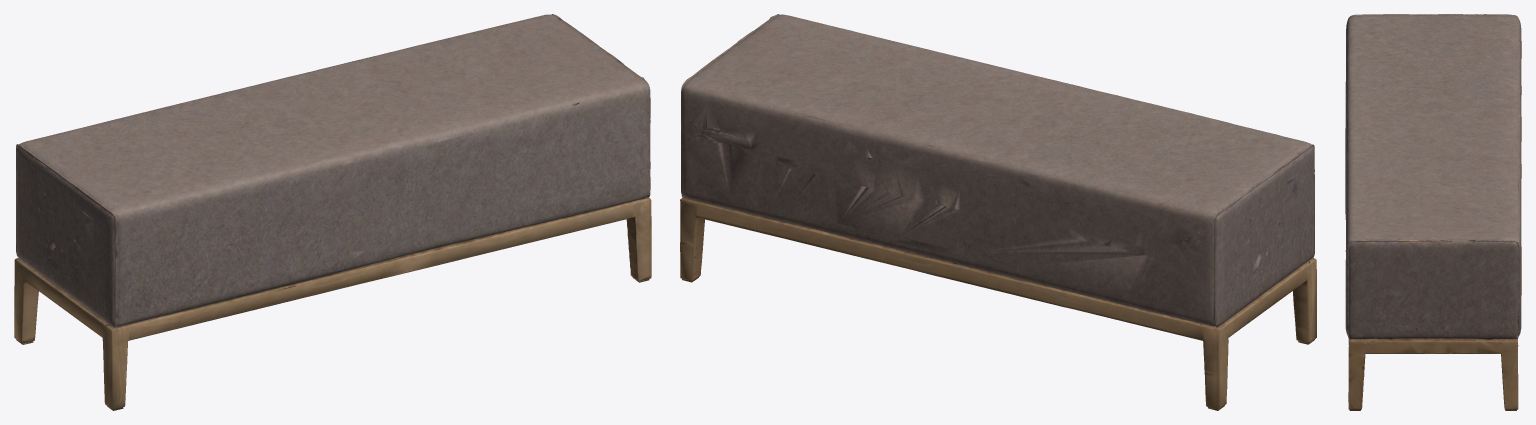
File: visitor-bench.glb
3 views of the same model, side by side, from view 1: azimuth 30°, elevation 25°; view 2: azimuth 150°, elevation 25°; view 3: azimuth 270°, elevation 25° (orthographic). The views are drawn at different scales.
Visible parts, largest first — view 1: Fjord 120; view 2: Fjord 120; view 3: Fjord 120.
Boxes of the visible parts, x1,y1,x2,y2 form: Fjord 120: [14, 14, 651, 410]; Fjord 120: [680, 14, 1316, 410]; Fjord 120: [1345, 14, 1521, 410].
Bounding box in the file's own units: 1.2 × 0.4214 × 0.393.
Materials: 1 (1 with a texture image).
